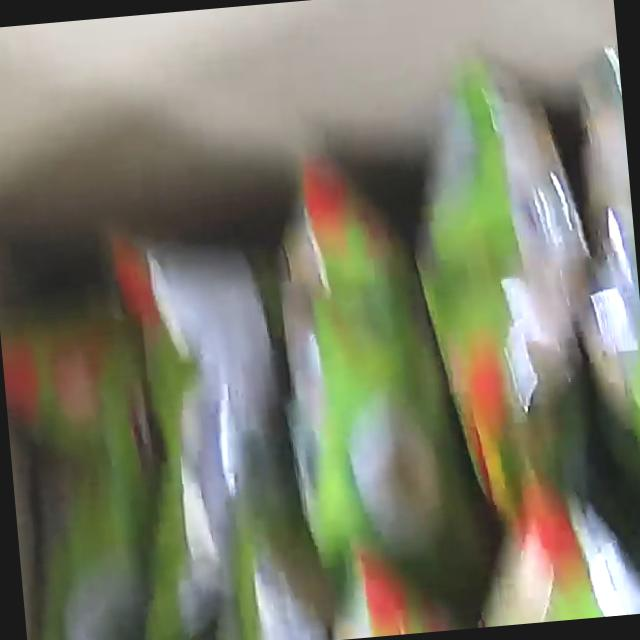yogurt: (0, 127, 640, 640)
